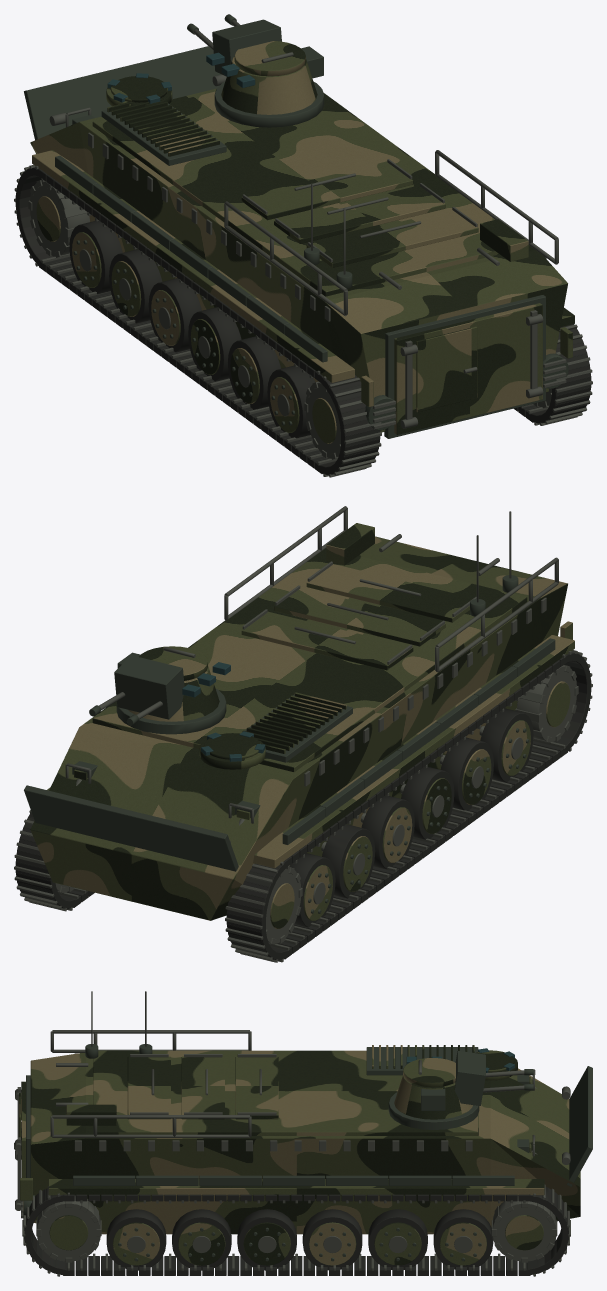
Rendered from kaav-surface-refinement.glb.
The picture shows the model from 3 angles, top to bottom: view 1: azimuth 30°, elevation 25°; view 2: azimuth 150°, elevation 25°; view 3: azimuth 270°, elevation 25°; orthographic projection. The views are drawn at different scales.
Visible parts, largest first — view 1: olive, rubber.001, light.001, steel.001, dark.001, glass.002, red.001; view 2: olive, rubber.001, dark.001, steel.001, light.001, glass.002; view 3: olive, rubber.001, steel.001, dark.001, light.001.
Boxes of the visible parts, x1,y1,x2,y2 form: olive: (30, 57, 574, 443); rubber.001: (15, 167, 591, 475); light.001: (110, 41, 528, 412); steel.001: (14, 20, 592, 477); dark.001: (24, 14, 568, 438); glass.002: (107, 52, 255, 103); red.001: (361, 327, 572, 406); olive: (30, 536, 574, 928); rubber.001: (15, 652, 591, 960); dark.001: (24, 575, 555, 913); steel.001: (14, 506, 592, 962); light.001: (139, 523, 473, 759); glass.002: (182, 662, 265, 761); olive: (21, 1045, 580, 1265); rubber.001: (24, 1187, 568, 1275); steel.001: (14, 991, 570, 1276); dark.001: (23, 1044, 592, 1261); light.001: (19, 1050, 514, 1137).
Bounding box in the file's own units: 3.28 × 3.1 × 8.06.
Materials: 8 (4 with a texture image).
